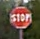stop: (8, 6, 32, 28)
